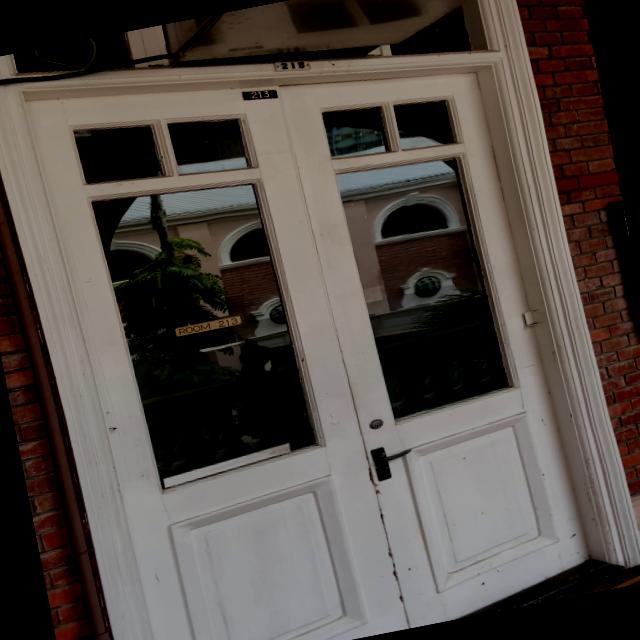room213: (235, 82, 280, 107)
room213Window: (170, 310, 247, 340)
